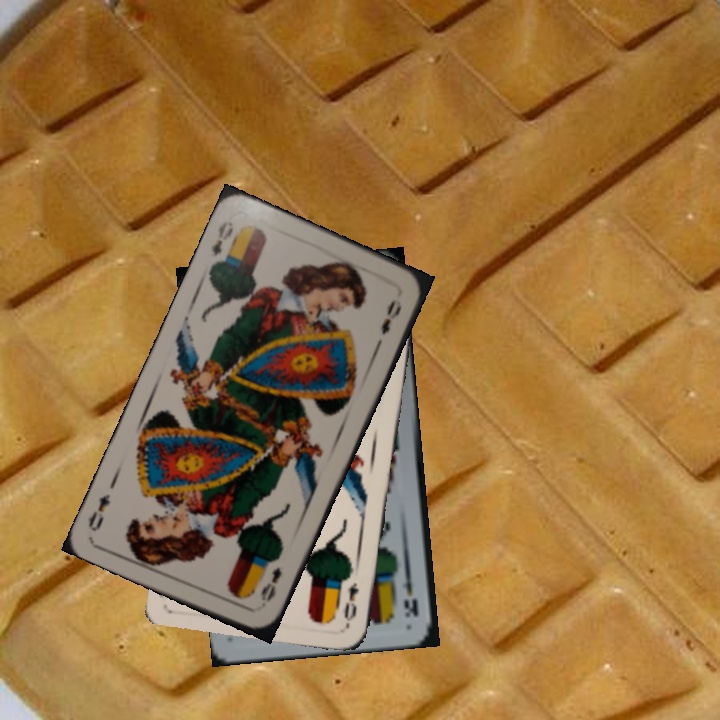EK: (400, 563, 421, 619)
EO: (207, 216, 237, 259), (257, 563, 285, 605), (340, 579, 361, 628)
